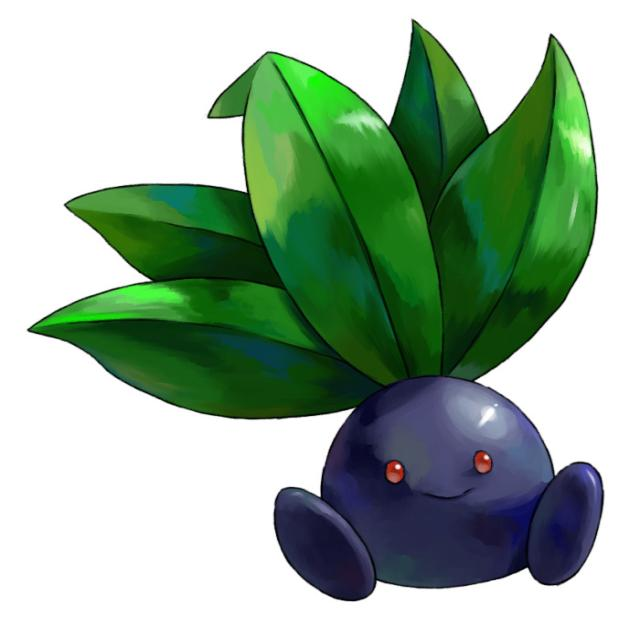Oddish: (238, 195, 608, 595)
